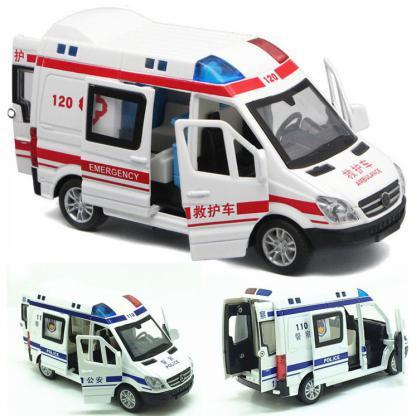Ambulance - v1 Ambulance last generate: (0, 7, 409, 274), (4, 281, 200, 405), (218, 286, 412, 398)
